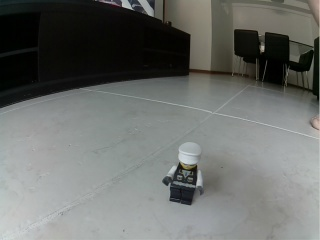Person: (163, 141, 205, 207)
